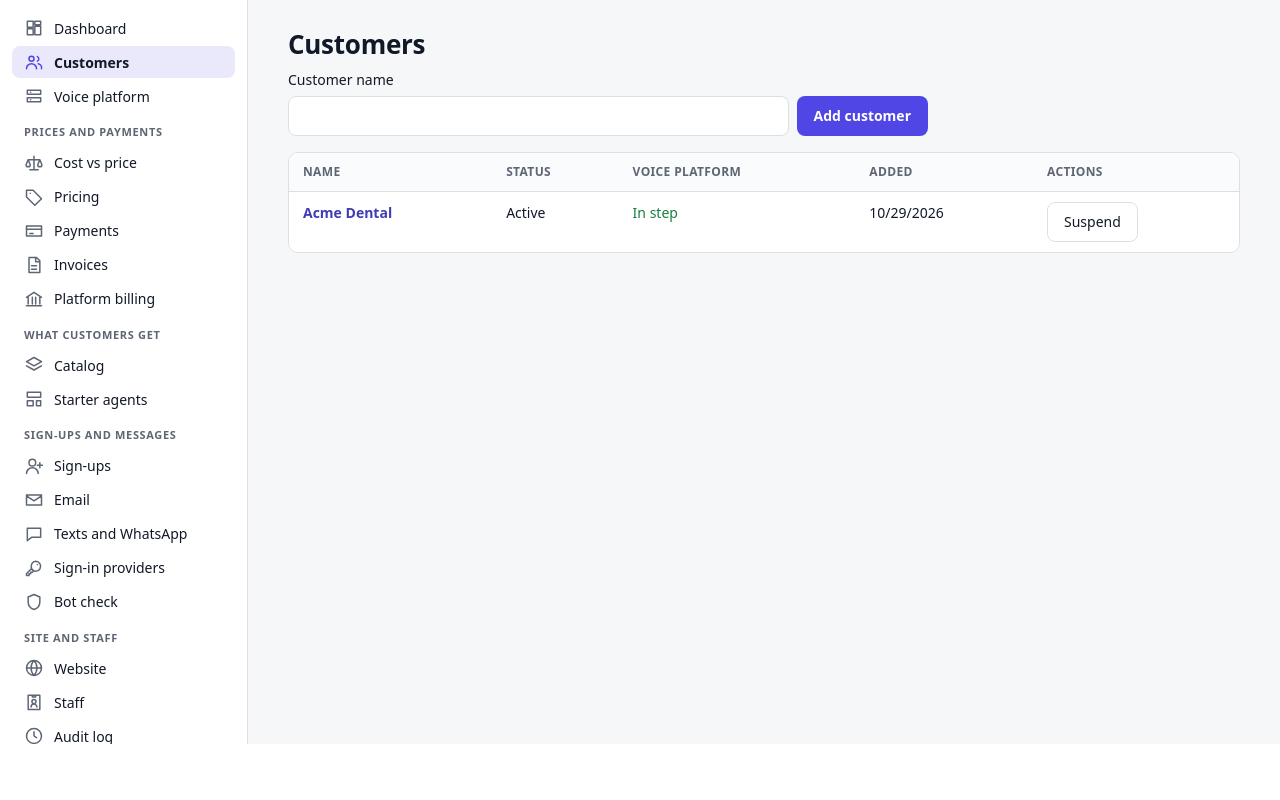
the admin panel › suspends and resumes a customer
Check: the link "Acme Dental" is shown, box [303,202,392,222]
Step 1. Click the button "Suspend" → click(1092, 222), box [1047,202,1138,242]
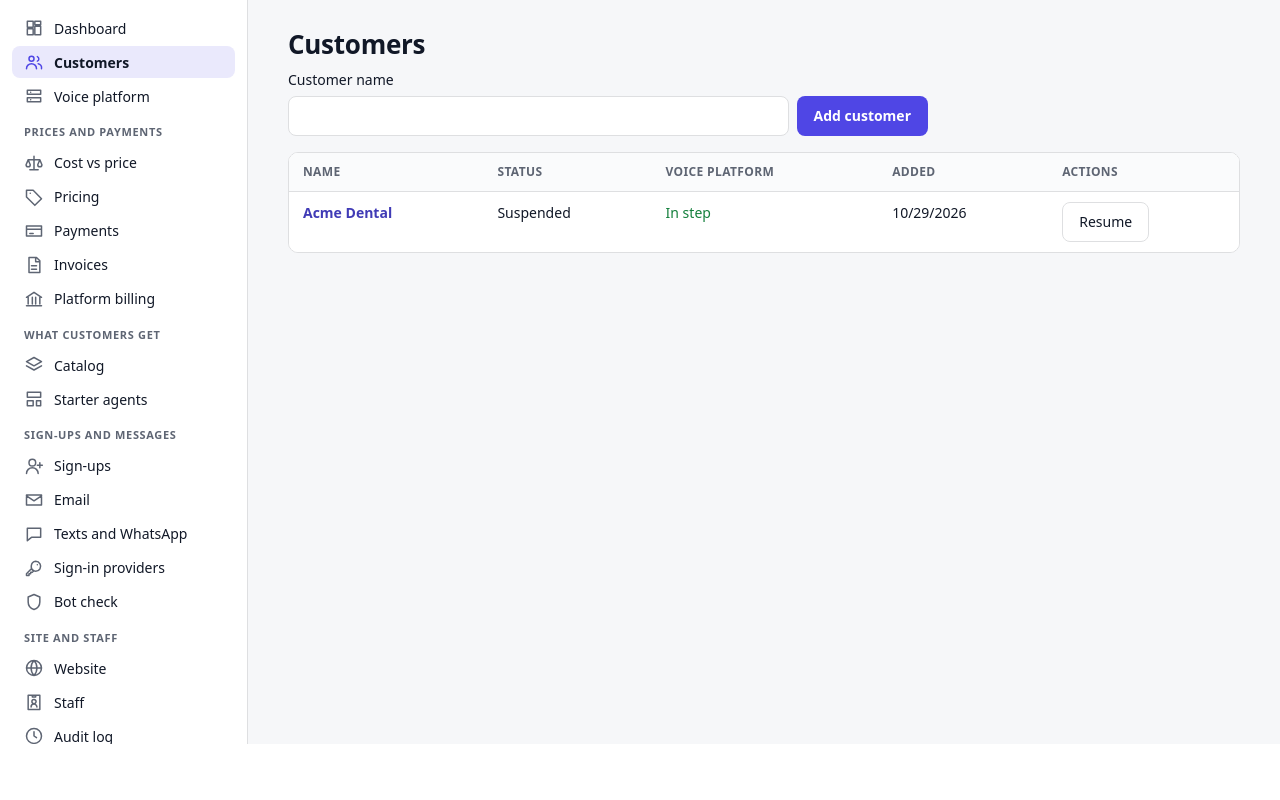
Check: the text "Suspended" is shown, box [483,191,652,252]
Step 2. Click the button "Resume" → click(1106, 222), box [1062,202,1149,242]
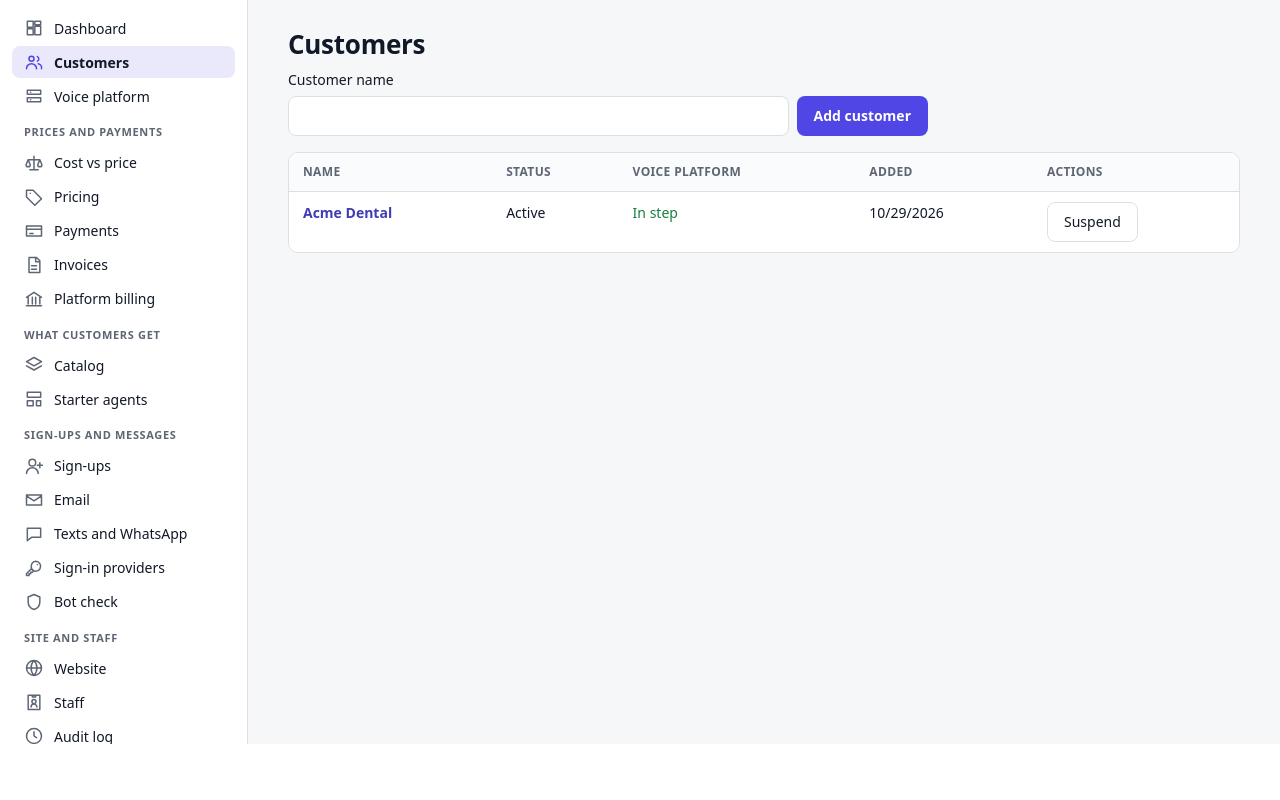
Check: the text "Active" is shown, box [492,191,619,252]
